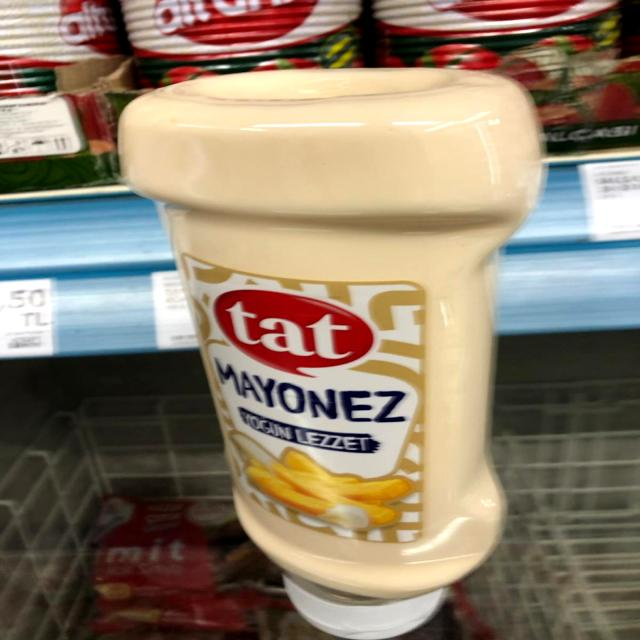mayonnaise: (108, 56, 553, 640)
